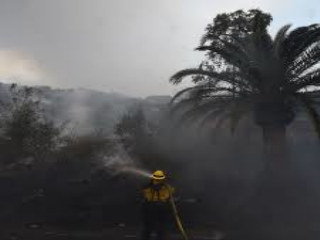smoke: (1, 47, 145, 168)
